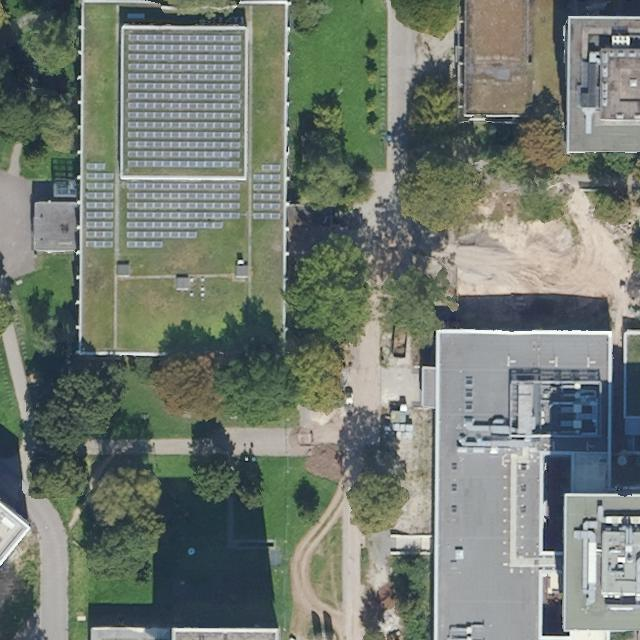PV: (122, 28, 246, 174), (124, 181, 244, 251), (85, 163, 113, 248), (252, 164, 281, 219)
